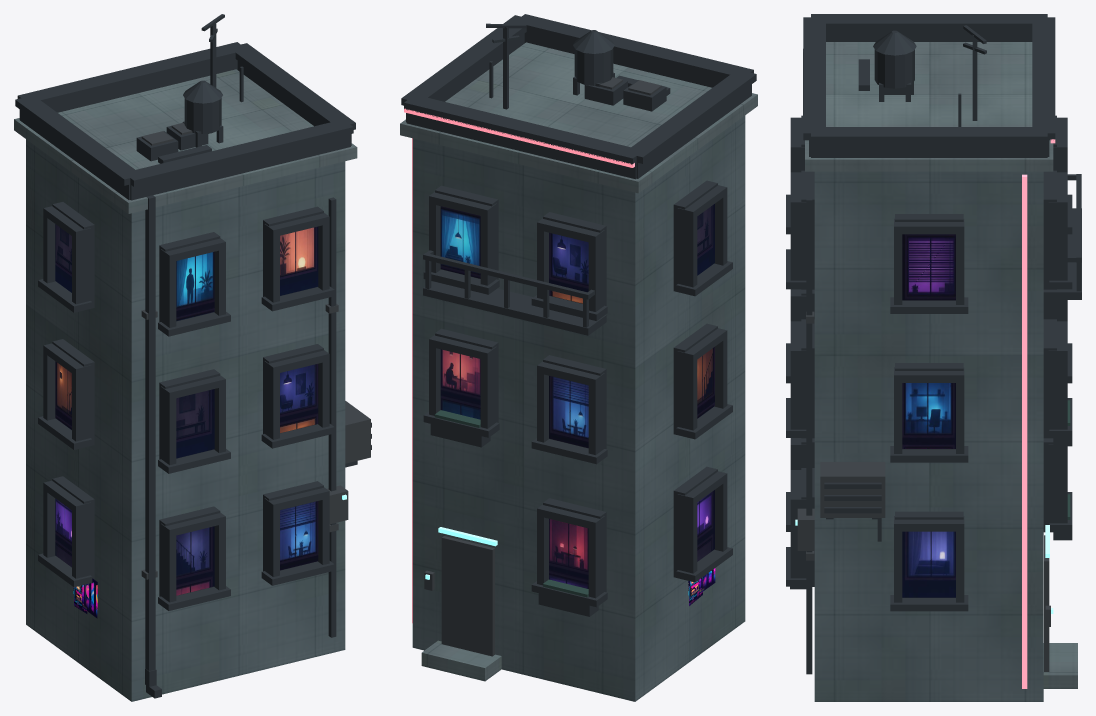
Rendered from synthwave-house-d.glb.
3 renders of one model, left to right at view 1: azimuth 30°, elevation 25°; view 2: azimuth 150°, elevation 25°; view 3: azimuth 270°, elevation 25°, orthographic. The views are drawn at different scales.
Parts seen in each view (by area): view 1: House, House_Frame, House_HouseWinArt, House_Body2, House_Door, RK_WtTank1_-9, House_HousePosters, RK_AcBox0-15_-10, RK_WtCap1_-9; view 2: House, House_Frame, House_Body2, House_HouseWinArt, House_Door, House_NeonA, RK_WtTank1_-9, House_Foliage, RK_AcBox0-15_-10, RK_WtCap1_-9, RK_AcBox1-15_-10; view 3: House, House_Frame, House_Body2, House_HouseWinArt, House_Door, House_NeonA, RK_WtTank1_-9, RK_WtCap1_-9, RK_AntMast16_12.
Boxes of the visible parts, bbox=[...] form: House: bbox=[26, 139, 345, 701]; House_Frame: bbox=[15, 42, 371, 698]; House_HouseWinArt: bbox=[55, 224, 318, 595]; House_Body2: bbox=[14, 69, 357, 213]; House_Door: bbox=[141, 304, 370, 579]; RK_WtTank1_-9: bbox=[184, 98, 221, 133]; House_HousePosters: bbox=[73, 578, 97, 618]; RK_AcBox0-15_-10: bbox=[136, 131, 178, 161]; RK_WtCap1_-9: bbox=[183, 80, 222, 103]; House: bbox=[412, 115, 745, 701]; House_Frame: bbox=[401, 14, 756, 616]; House_Body2: bbox=[400, 42, 757, 681]; House_HouseWinArt: bbox=[440, 204, 714, 588]; House_Door: bbox=[424, 536, 494, 656]; House_NeonA: bbox=[404, 108, 634, 623]; RK_WtTank1_-9: bbox=[574, 48, 613, 85]; House_Foliage: bbox=[434, 410, 588, 597]; RK_AcBox0-15_-10: bbox=[623, 80, 666, 111]; RK_WtCap1_-9: bbox=[573, 30, 614, 53]; RK_AcBox1-15_-10: bbox=[584, 80, 627, 105]; House: bbox=[814, 171, 1043, 701]; House_Frame: bbox=[786, 14, 1081, 674]; House_Body2: bbox=[805, 42, 1077, 688]; House_HouseWinArt: bbox=[902, 234, 955, 597]; House_Door: bbox=[797, 311, 1050, 671]; House_NeonA: bbox=[1022, 139, 1055, 688]; RK_WtTank1_-9: bbox=[874, 49, 914, 88]; RK_WtCap1_-9: bbox=[873, 30, 916, 55]; RK_AntMast16_12: bbox=[972, 35, 977, 120].
Size of the model in its own units: 0.877 by 1.84 by 0.775.
Materials: 10 (4 with a texture image).
